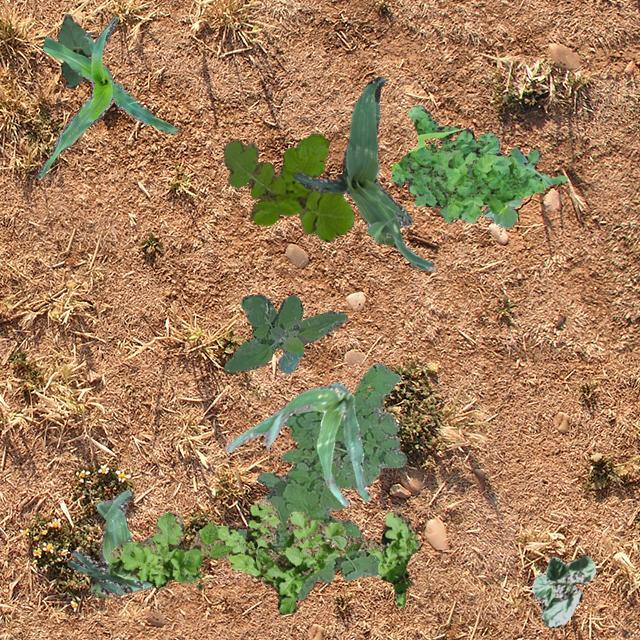crop: (290, 76, 434, 270), (36, 16, 178, 178), (224, 380, 368, 504), (66, 488, 152, 596), (530, 556, 594, 626), (56, 12, 90, 86)
weed: (235, 362, 406, 600), (108, 498, 420, 614), (390, 104, 566, 222), (224, 132, 354, 240), (222, 294, 346, 372), (482, 196, 520, 226)
